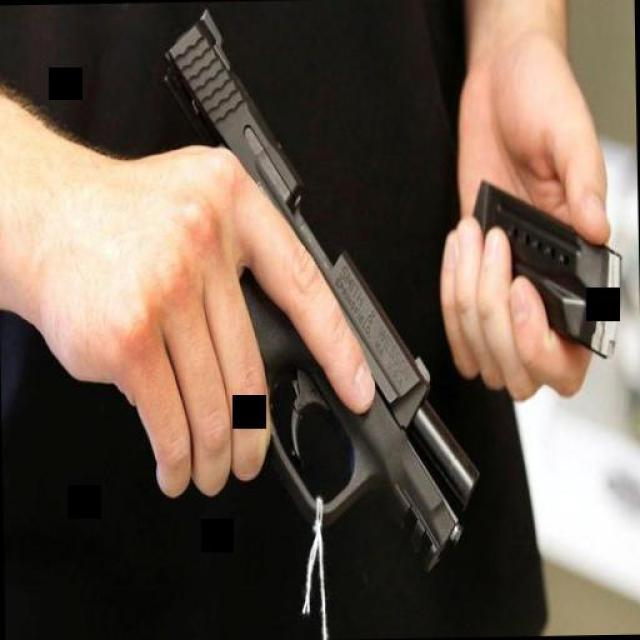gun: (104, 0, 481, 579)
